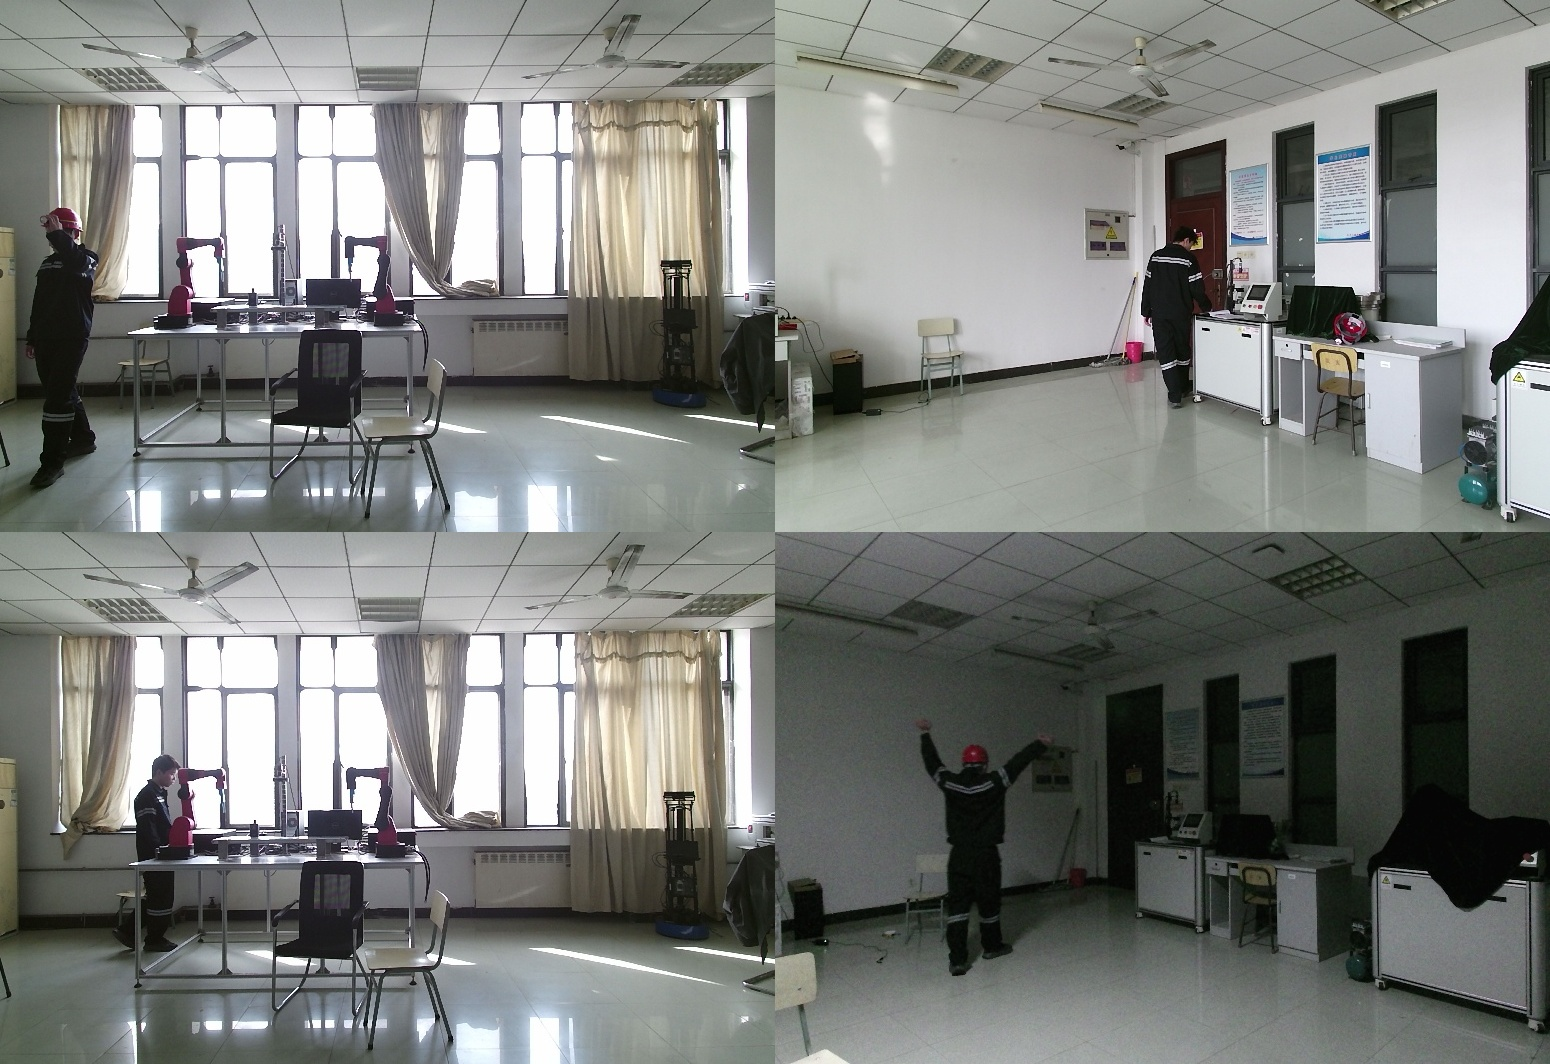person: (908, 718, 1045, 978), (25, 210, 101, 489), (118, 753, 193, 959), (1142, 233, 1220, 418)
